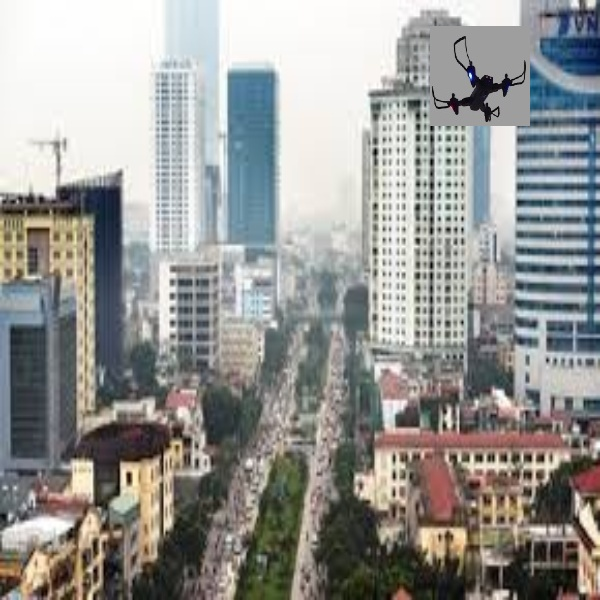drone: (429, 31, 531, 128)
